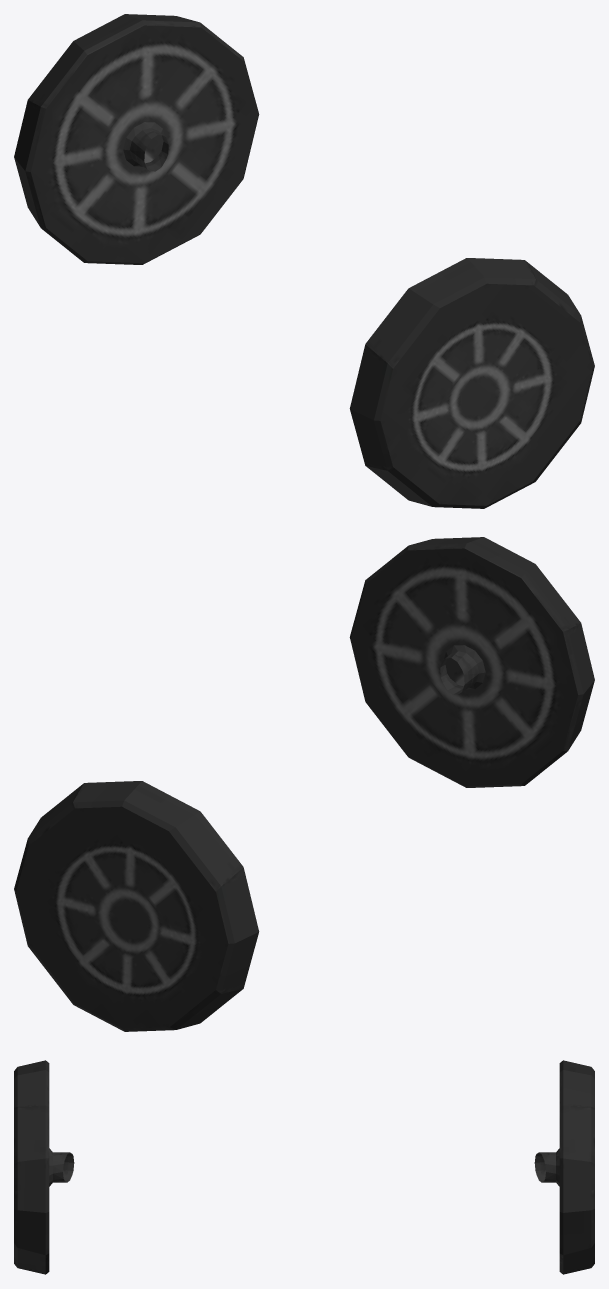
File: strProp_51.glb
The picture shows the model from 3 angles, top to bottom: view 1: azimuth 30°, elevation 25°; view 2: azimuth 150°, elevation 25°; view 3: azimuth 270°, elevation 25°; orthographic projection. The views are drawn at different scales.
Parts seen in each view (by area): view 1: geometry_0; view 2: geometry_0; view 3: geometry_0.
Boxes of the visible parts, box(x1,y1,x2,y2) form: geometry_0: box(14, 14, 594, 508); geometry_0: box(14, 537, 594, 1031); geometry_0: box(14, 1060, 594, 1274).
Size of the model in its own units: 0.1968 by 0.1968 by 0.5309.
1 material, 1 textured.
